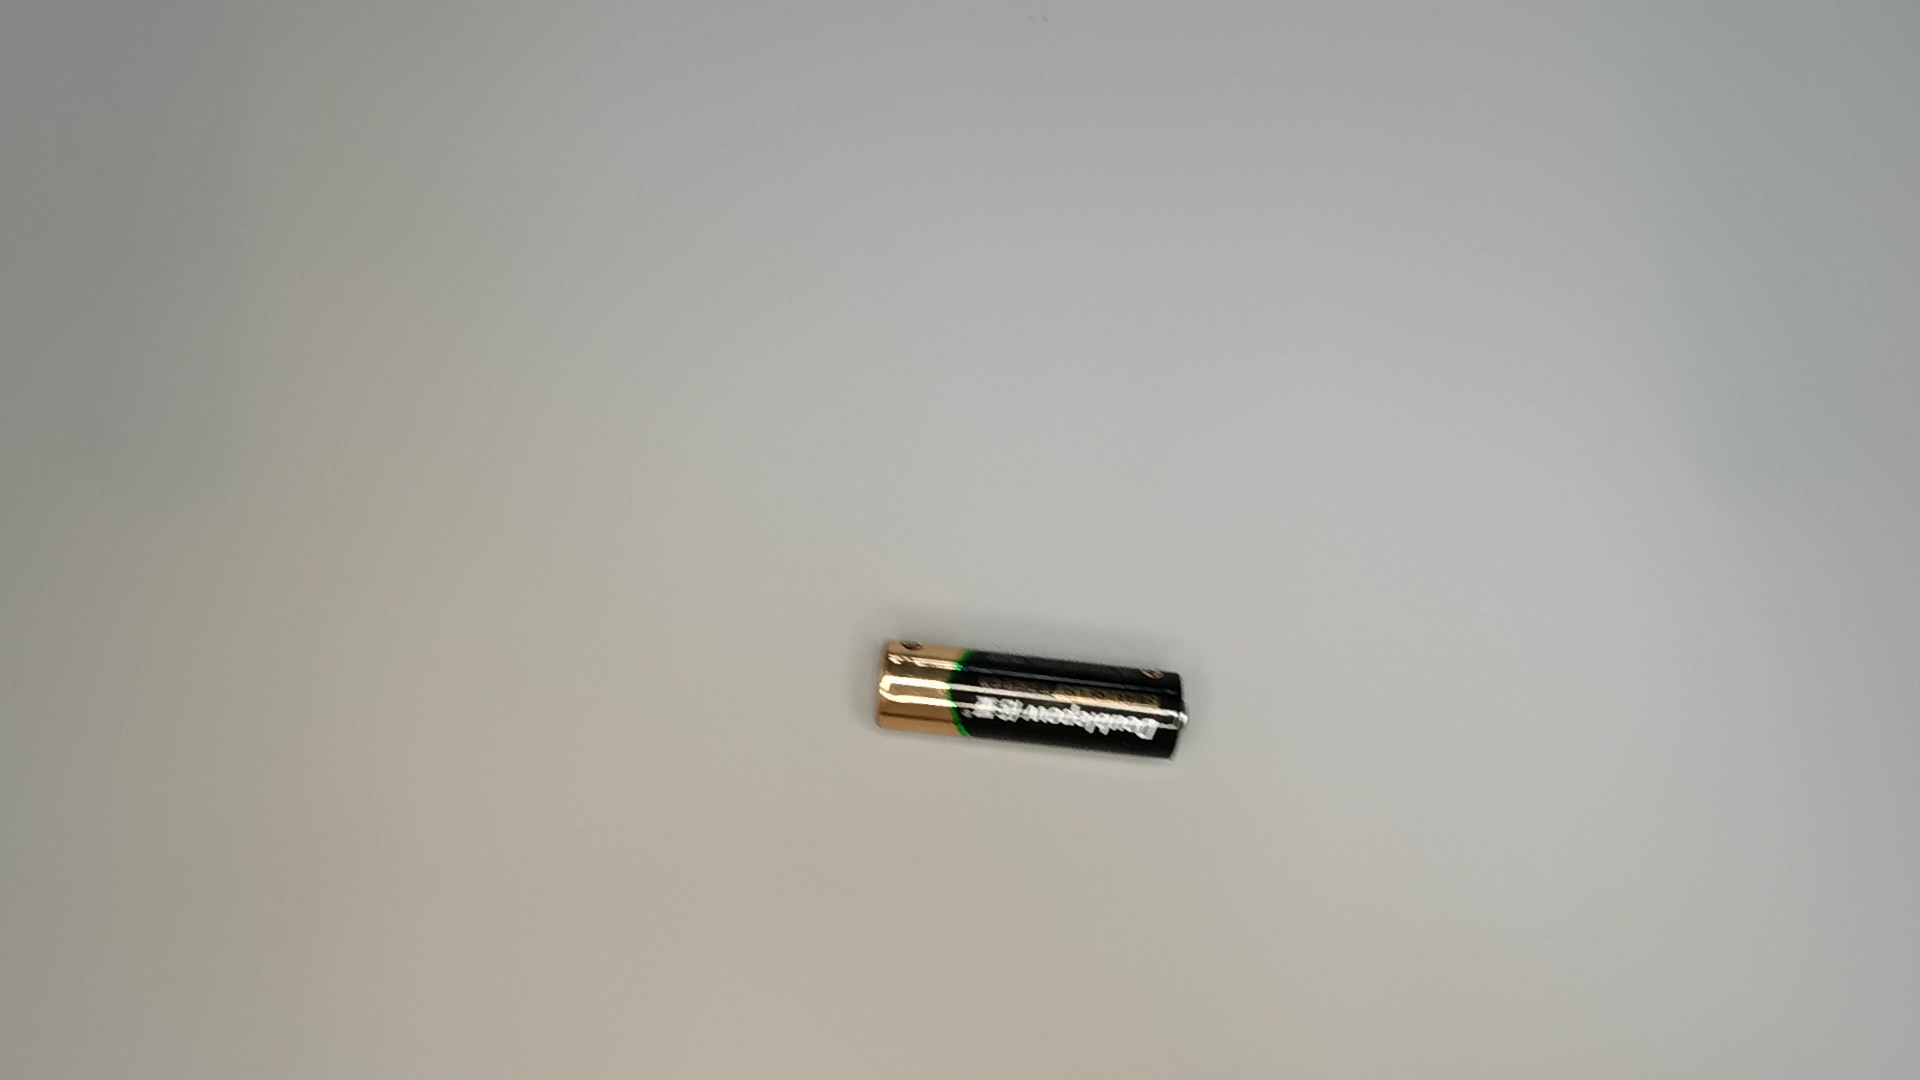battery: (869, 632, 1196, 767)
